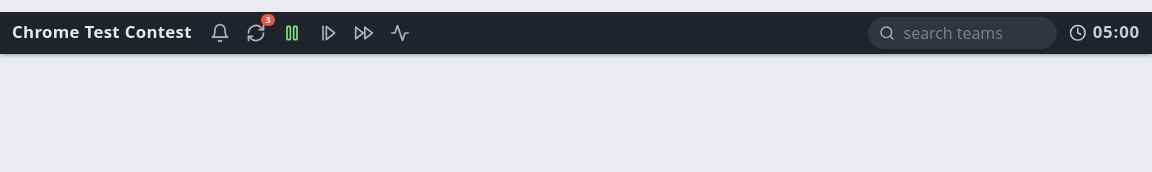
Test: Header › badges the update button with the pending count and feeds runs
Expected: the text with class "kr-hbtn__badge" reads "3", [265,13,271,26]
Click the button named "Feed one run" at x=328, y=33, box [312,17,344,49]
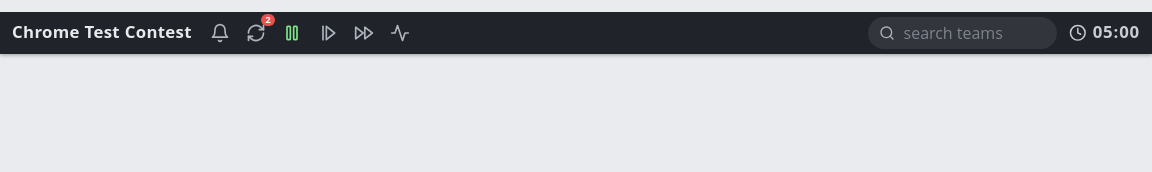
Result: the text with class "kr-hbtn__badge" reads "2" at [265,13,271,26]
Click the button named "Feed all runs" at x=364, y=33, box [348,17,380,49]
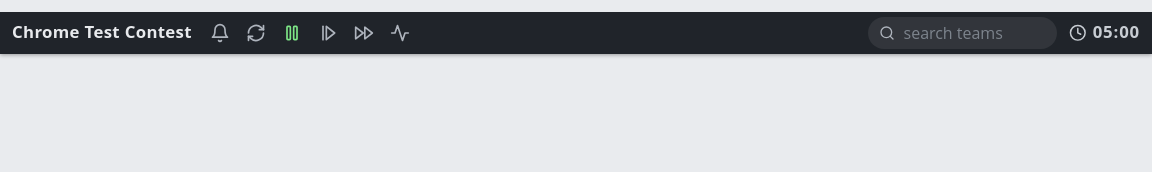
Result: the text with class "kr-hbtn__badge" is gone
